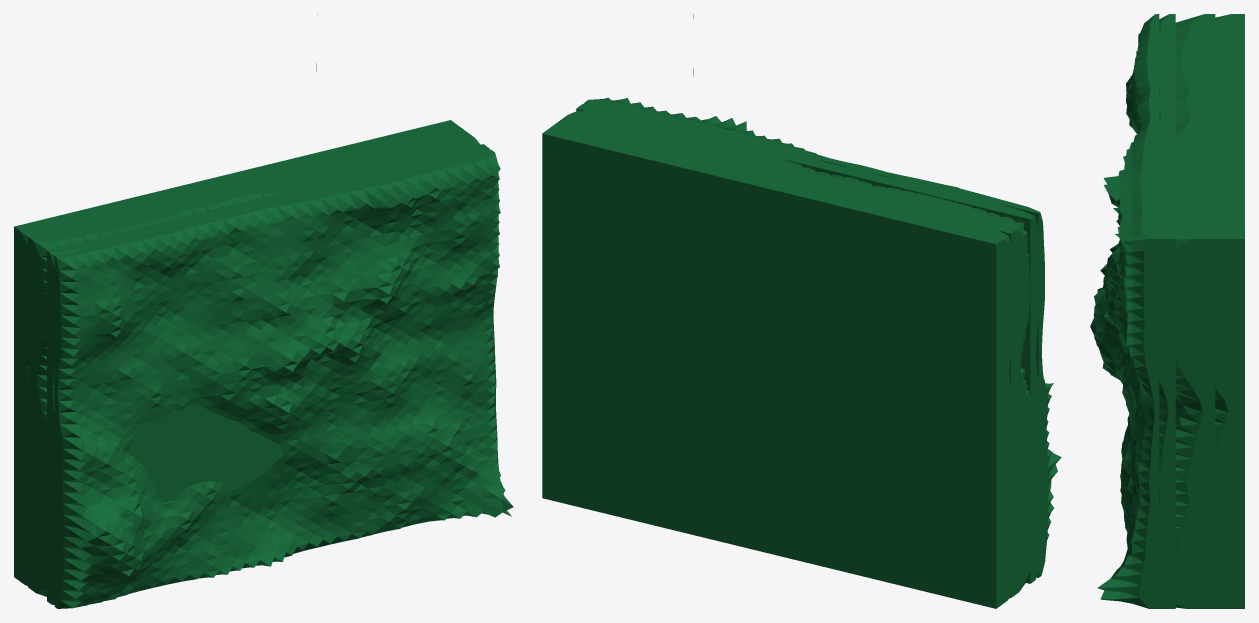
The model's file is tinker.obj.
The picture shows the model from 3 angles, left to right: view 1: azimuth 30°, elevation 25°; view 2: azimuth 150°, elevation 25°; view 3: azimuth 270°, elevation 25°; orthographic projection. The views are drawn at different scales.
Parts seen in each view (by area): view 1: obj_0; view 2: obj_0; view 3: obj_0.
Part boxes in pixels (<box>): obj_0: <box>14,14,513,608</box>; obj_0: <box>542,14,1061,608</box>; obj_0: <box>1090,14,1244,608</box>.
Size of the model in its own units: 323 by 350 by 94.
